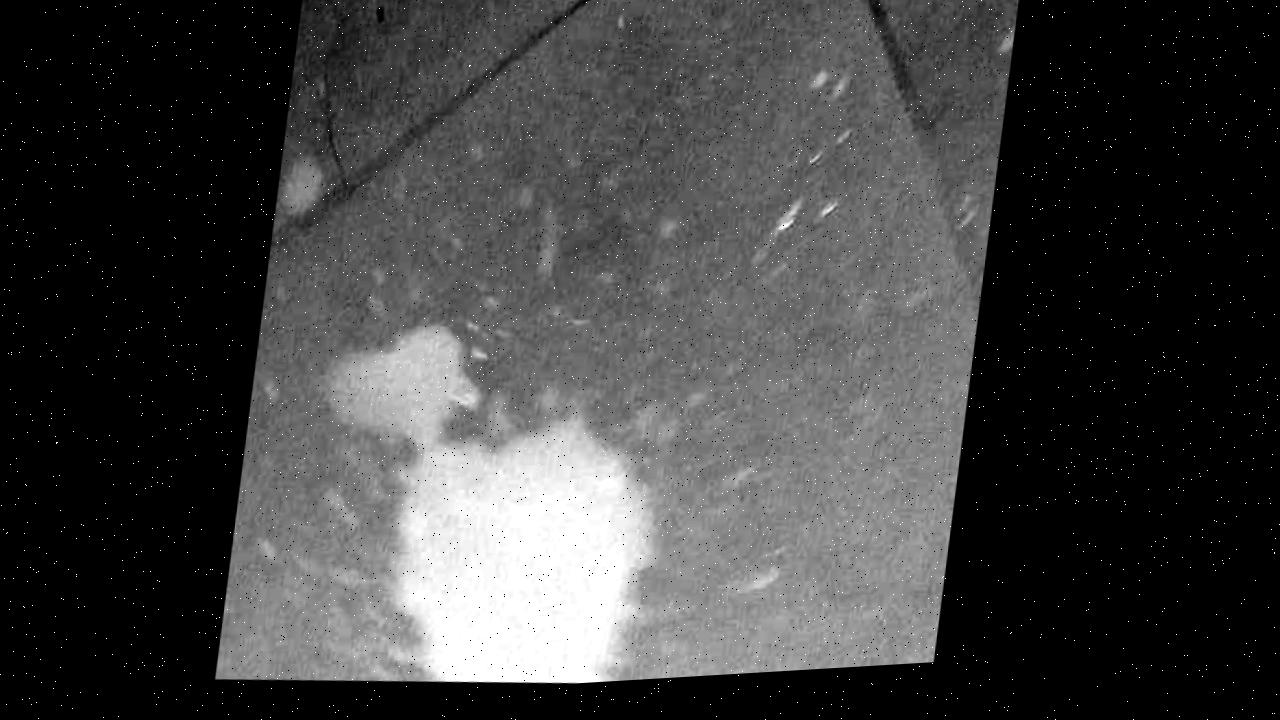drinks Stains: (287, 308, 703, 705), (728, 578, 952, 685)
